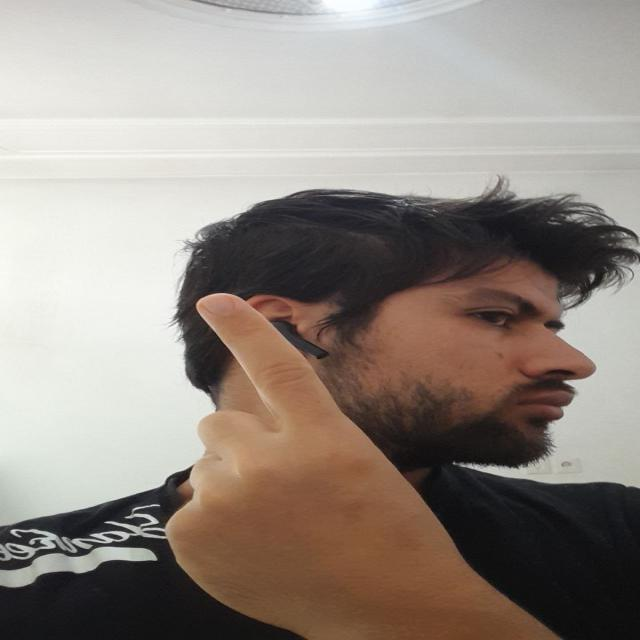Head: (178, 174, 636, 480)
One: (158, 294, 496, 640)
